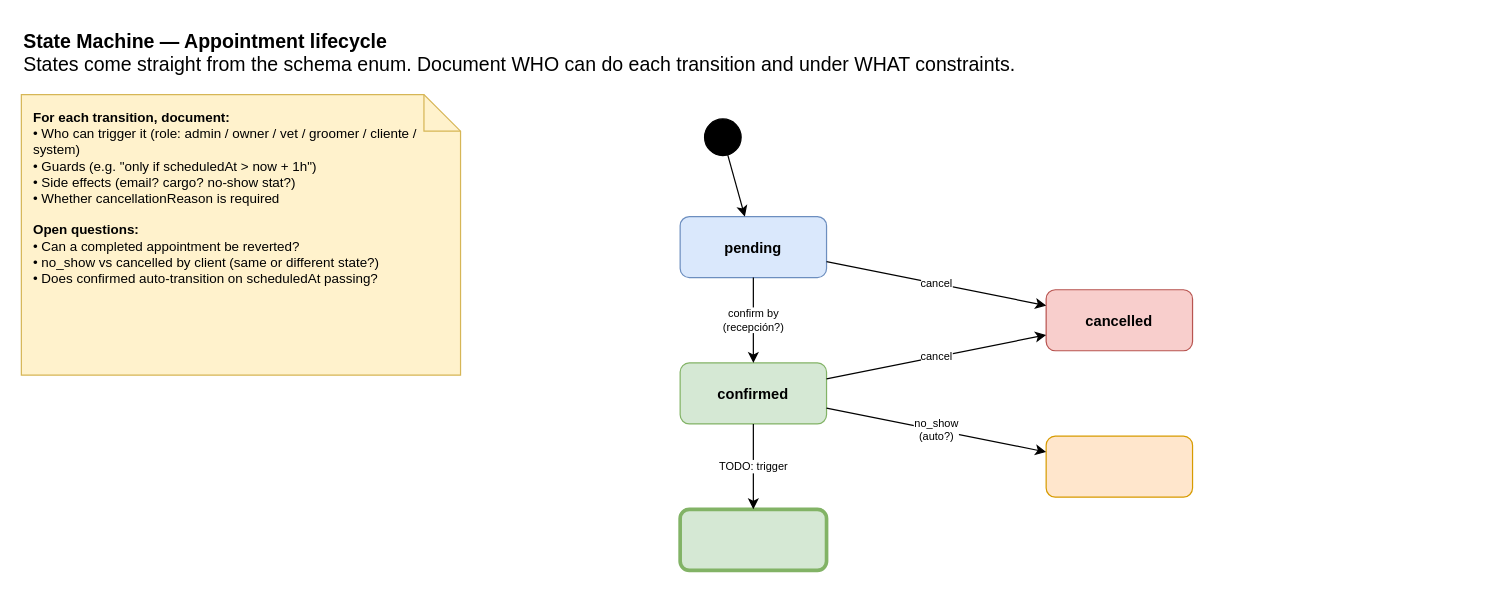
The diagram is 1507 pixels wide and 593 high, and some of its shapes have lost their labels. The centre of each missing label's shape, as x and y in pixels:
"completed" goes at point 753,539.
"no_show" goes at point 1119,466.
